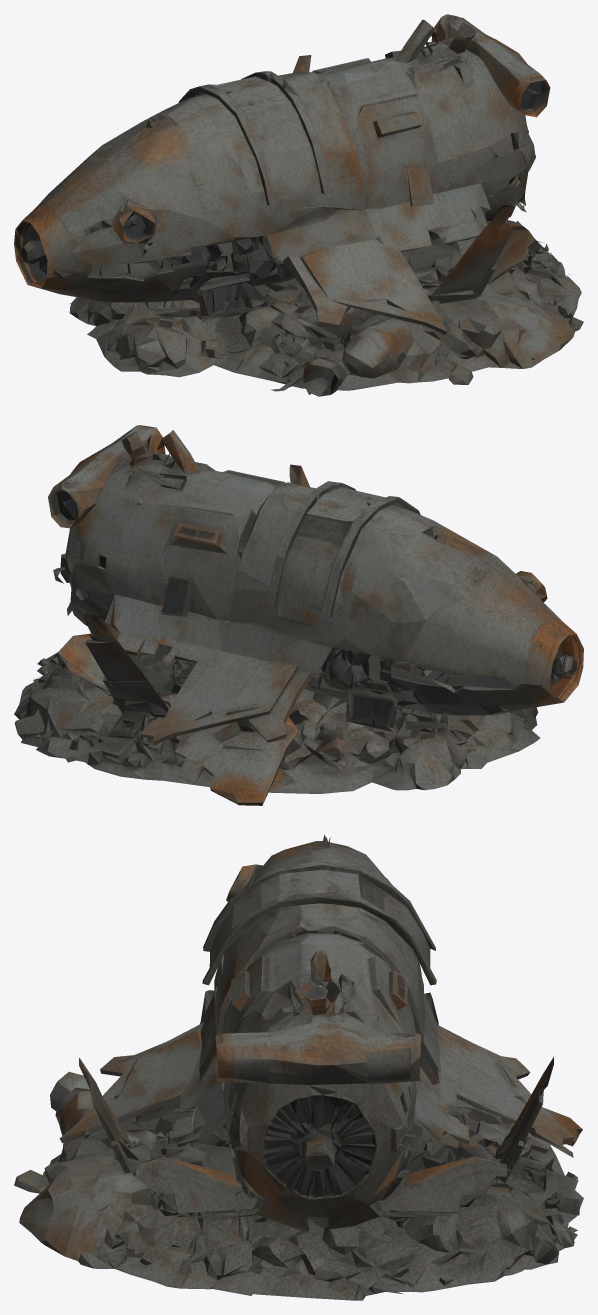
The model's file is p_wreck.glb.
3 renders of one model, top to bottom at view 1: azimuth 30°, elevation 25°; view 2: azimuth 150°, elevation 25°; view 3: azimuth 270°, elevation 25°, orthographic. The views are drawn at different scales.
Parts seen in each view (by area): view 1: mesh_0; view 2: mesh_0; view 3: mesh_0.
Part boxes in pixels (<box>): mesh_0: <box>14,14,583,396</box>; mesh_0: <box>14,425,583,805</box>; mesh_0: <box>14,834,583,1300</box>.
Size of the model in its own units: 1.85 by 0.8465 by 1.52.
Materials: 1 (1 with a texture image).
